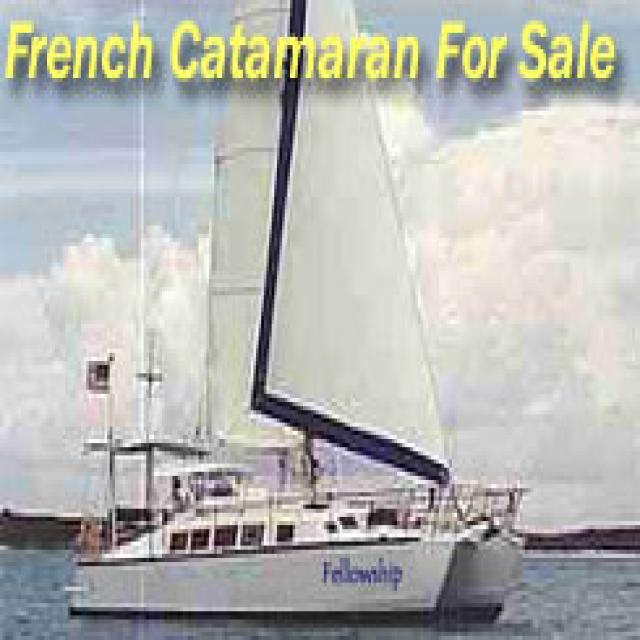Ship: (58, 5, 536, 619)
